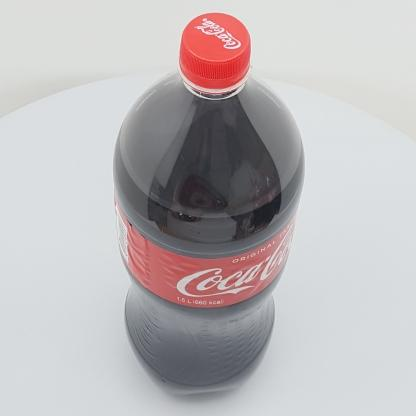----1-5L: (113, 13, 305, 395)
